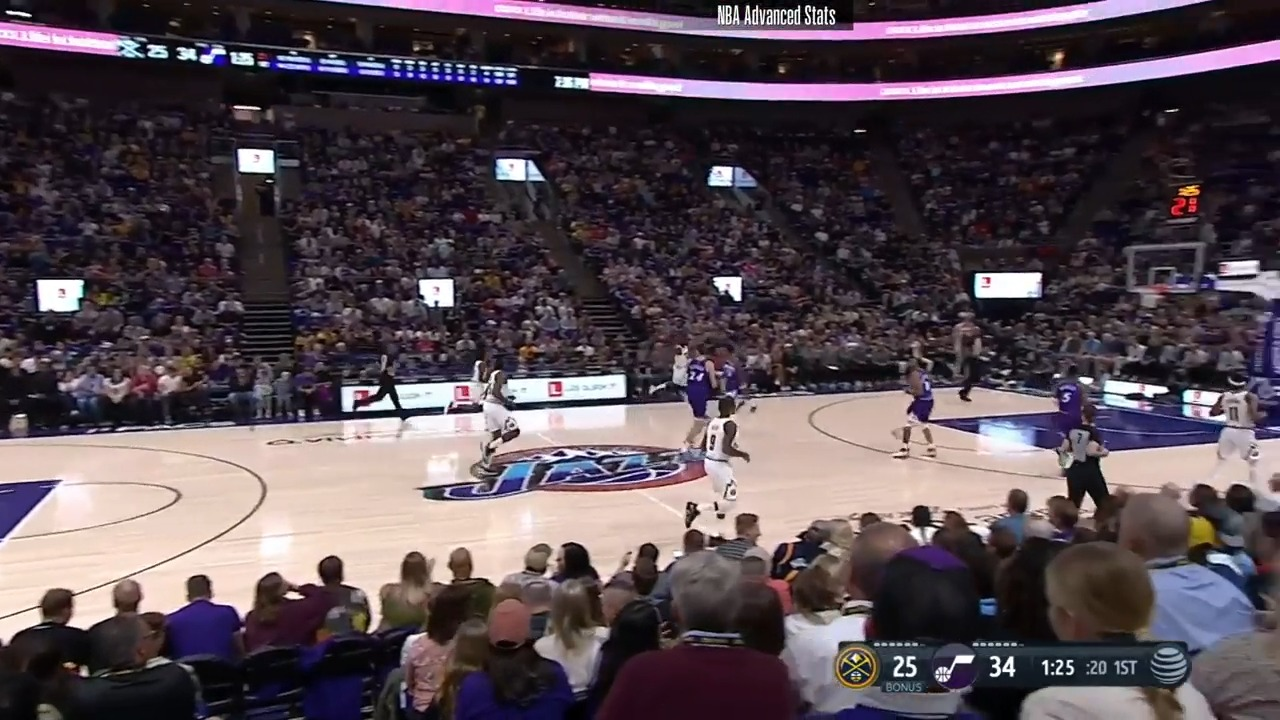player: (687, 397, 753, 525), (1200, 375, 1266, 491), (460, 357, 516, 489), (677, 341, 728, 466), (1054, 365, 1105, 470), (887, 353, 936, 458)
referee: (1061, 408, 1118, 517), (348, 342, 410, 438), (955, 321, 990, 409)
